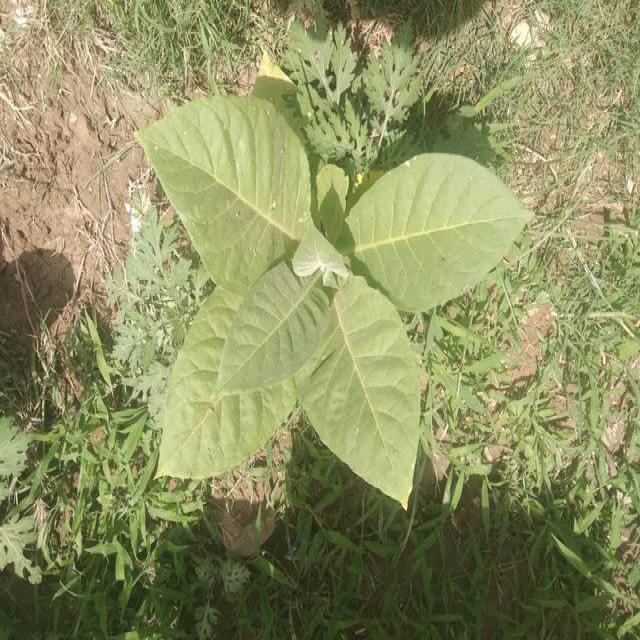crop: (140, 85, 527, 517)
